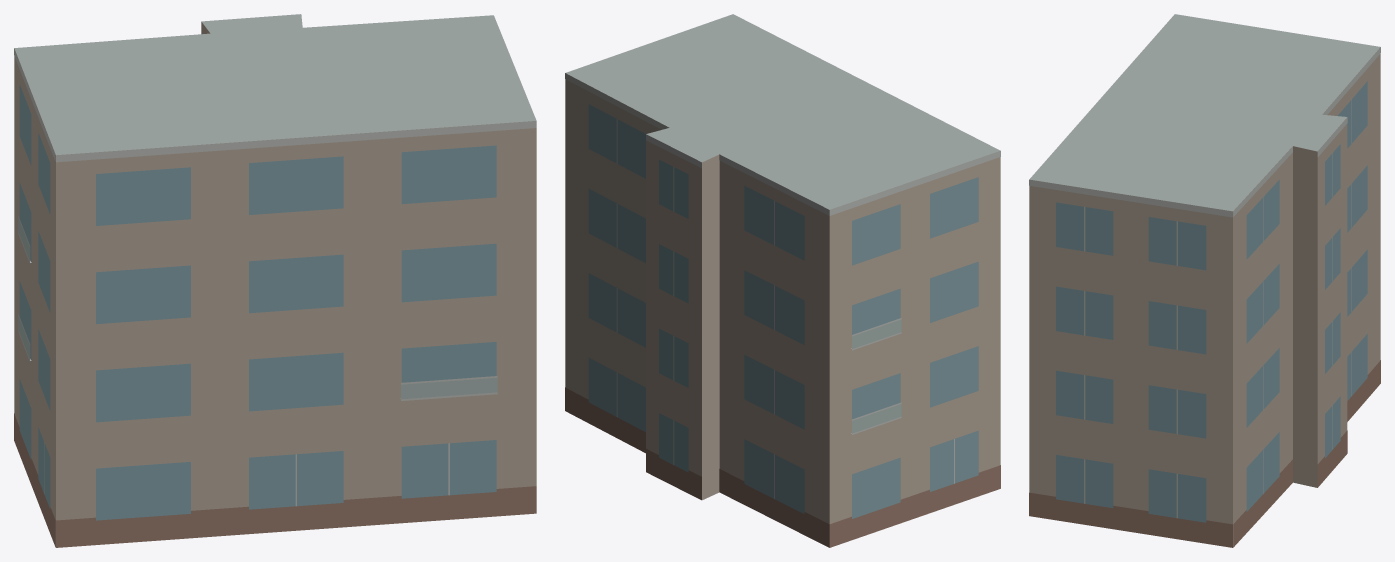
The model's file is survey-upis-32806043.glb.
3 views of the same model, side by side, from view 1: azimuth 30°, elevation 25°; view 2: azimuth 150°, elevation 25°; view 3: azimuth 270°, elevation 25° (orthographic). The views are drawn at different scales.
Parts seen in each view (by area): view 1: survey-upis-32806043.tmp; view 2: survey-upis-32806043.tmp; view 3: survey-upis-32806043.tmp.
Boxes of the visible parts, x1=… form: survey-upis-32806043.tmp: x1=14, y1=14, x2=536, y2=547; survey-upis-32806043.tmp: x1=565, y1=14, x2=1000, y2=547; survey-upis-32806043.tmp: x1=1029, y1=14, x2=1380, y2=547.
Size of the model in its own units: 16.88 by 13.41 by 12.71.
